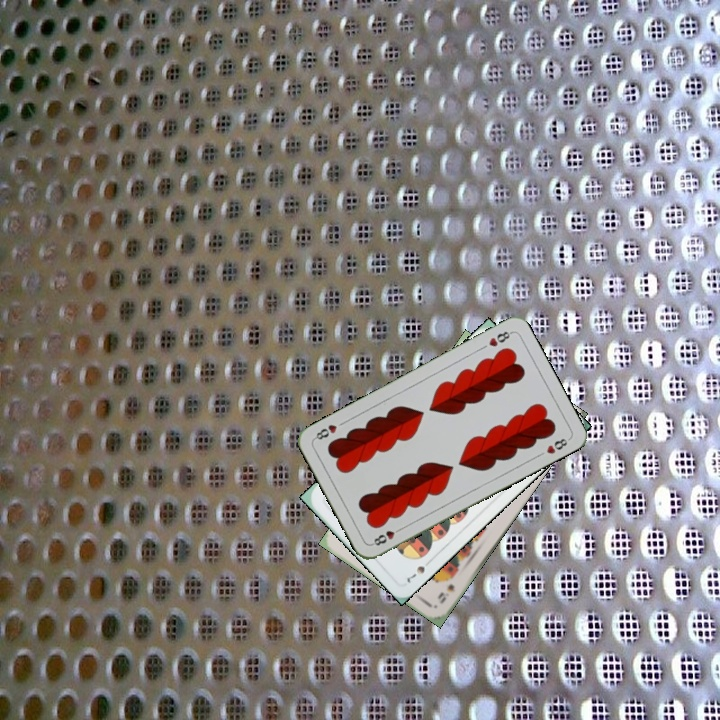H8: (368, 523, 406, 548), (485, 327, 515, 349)
S7: (402, 562, 427, 586)
S9: (433, 580, 458, 606)
